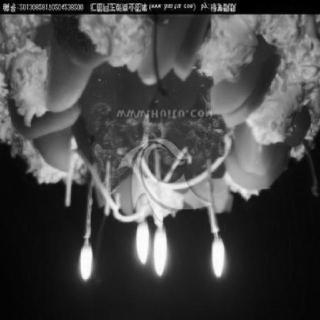Fire: (132, 218, 170, 288)
